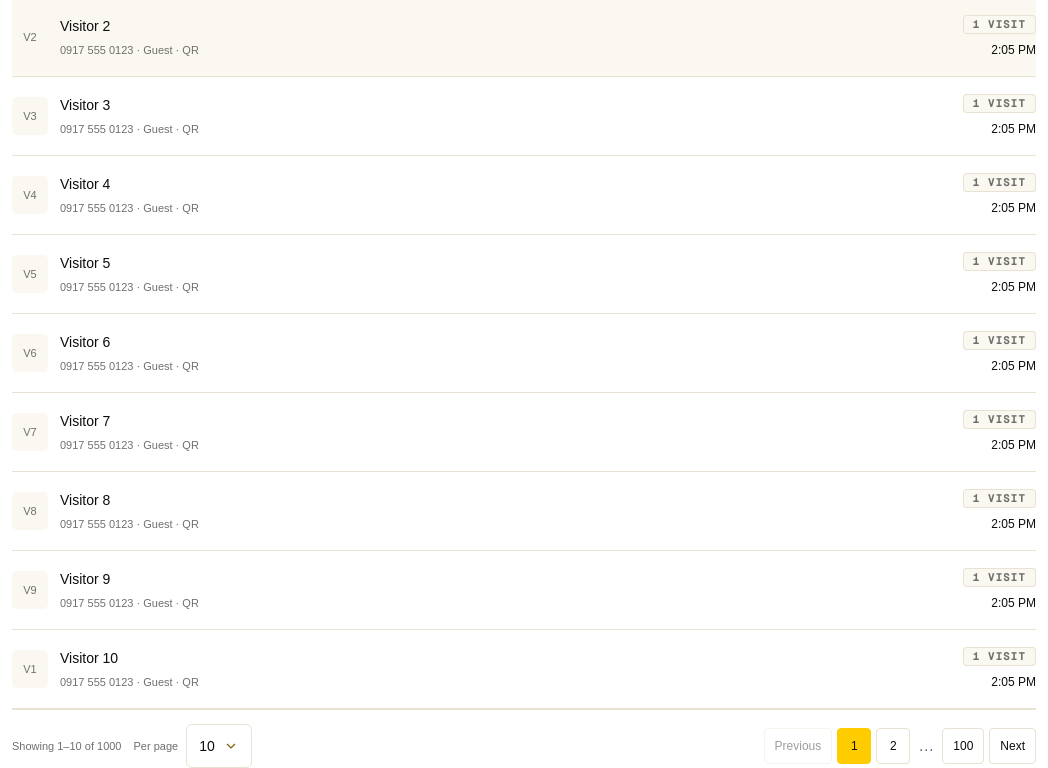
Test: bounds page buttons for large attendance lists while keeping the last page accessible
This screenshot has width=1048, height=768.
(page scrolled)
What coordinates should you click on to do the following:
click the button named "Check-in page 100"
I would click on:
 (963, 746)
Its box is [942,728,984,764].
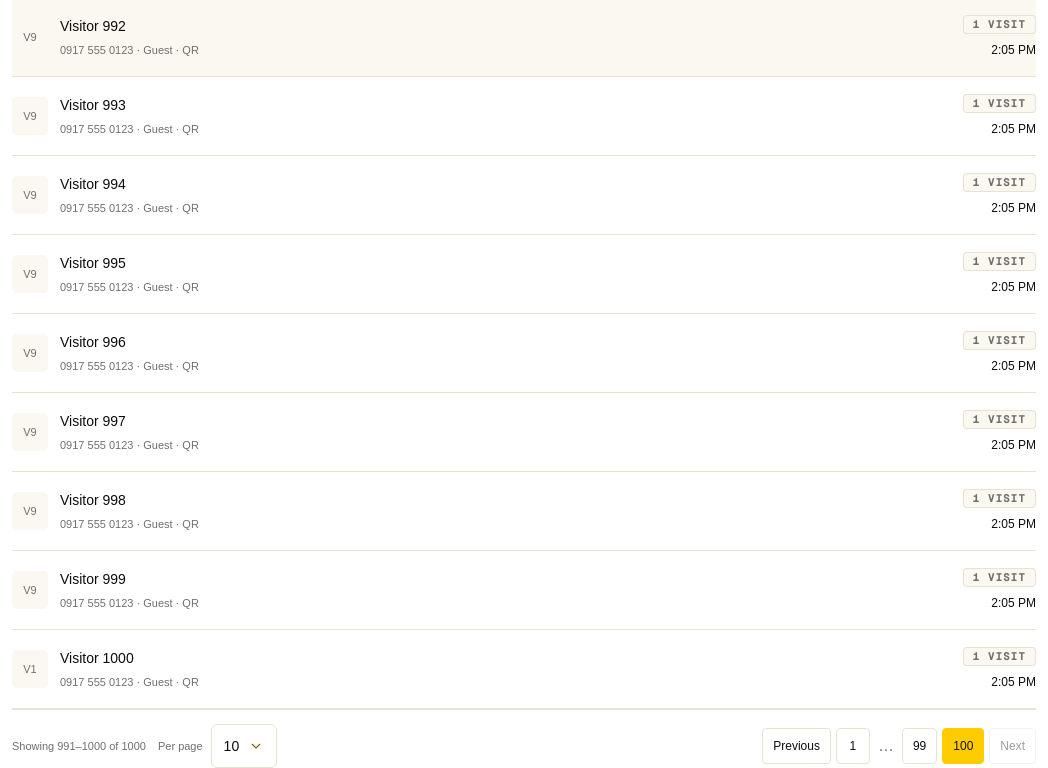
expect the text "Visitor 1000" is shown: met, box [60,650,134,666]
expect the text "Showing 991–1000 of 1000" is shown: met, box [12,738,146,754]
